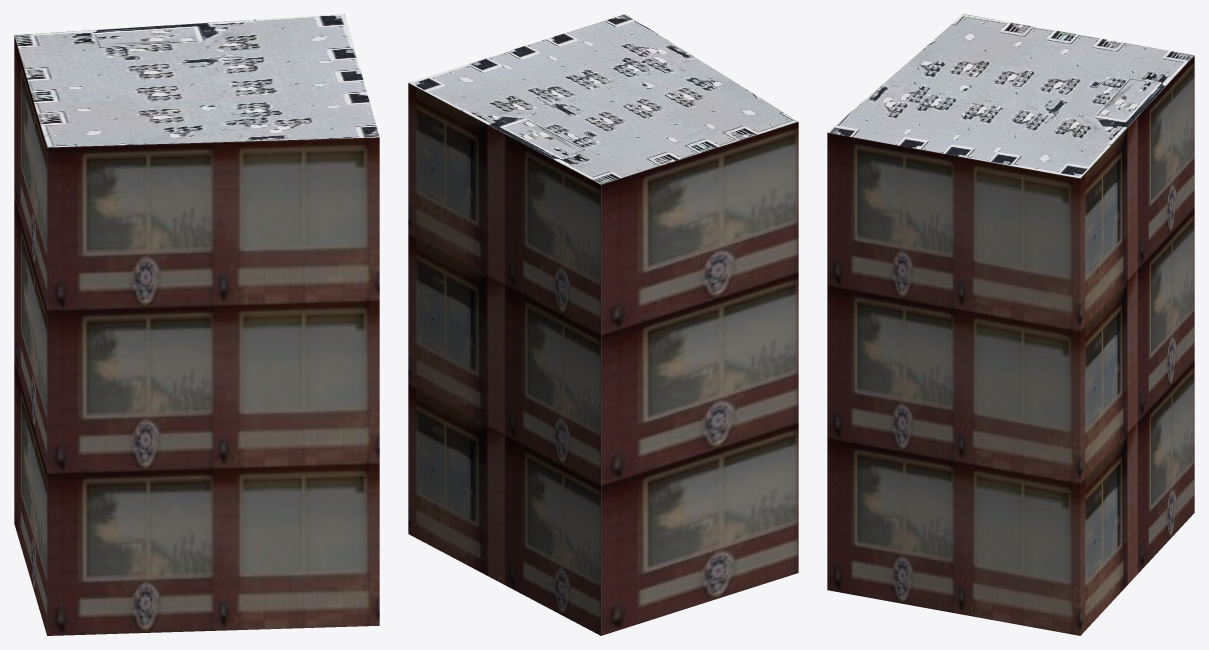
File: ResTex__2666.fbx
The picture shows the model from 3 angles, left to right: view 1: azimuth 30°, elevation 25°; view 2: azimuth 150°, elevation 25°; view 3: azimuth 270°, elevation 25°; orthographic projection. The views are drawn at different scales.
Visible parts, largest first — view 1: CityEngineMaterial_13_m, CityEngineMaterial_8_m; view 2: CityEngineMaterial_13_m, CityEngineMaterial_8_m; view 3: CityEngineMaterial_13_m, CityEngineMaterial_8_m.
Boxes of the visible parts, x1,y1,x2,y2 form: CityEngineMaterial_13_m: [14, 36, 379, 635]; CityEngineMaterial_8_m: [14, 14, 379, 147]; CityEngineMaterial_13_m: [408, 83, 798, 635]; CityEngineMaterial_8_m: [408, 14, 798, 184]; CityEngineMaterial_13_m: [827, 56, 1194, 635]; CityEngineMaterial_8_m: [828, 14, 1194, 178].
Bounding box in the file's own units: 6.94 × 9 × 6.55.
Materials: 2 (2 with a texture image).
